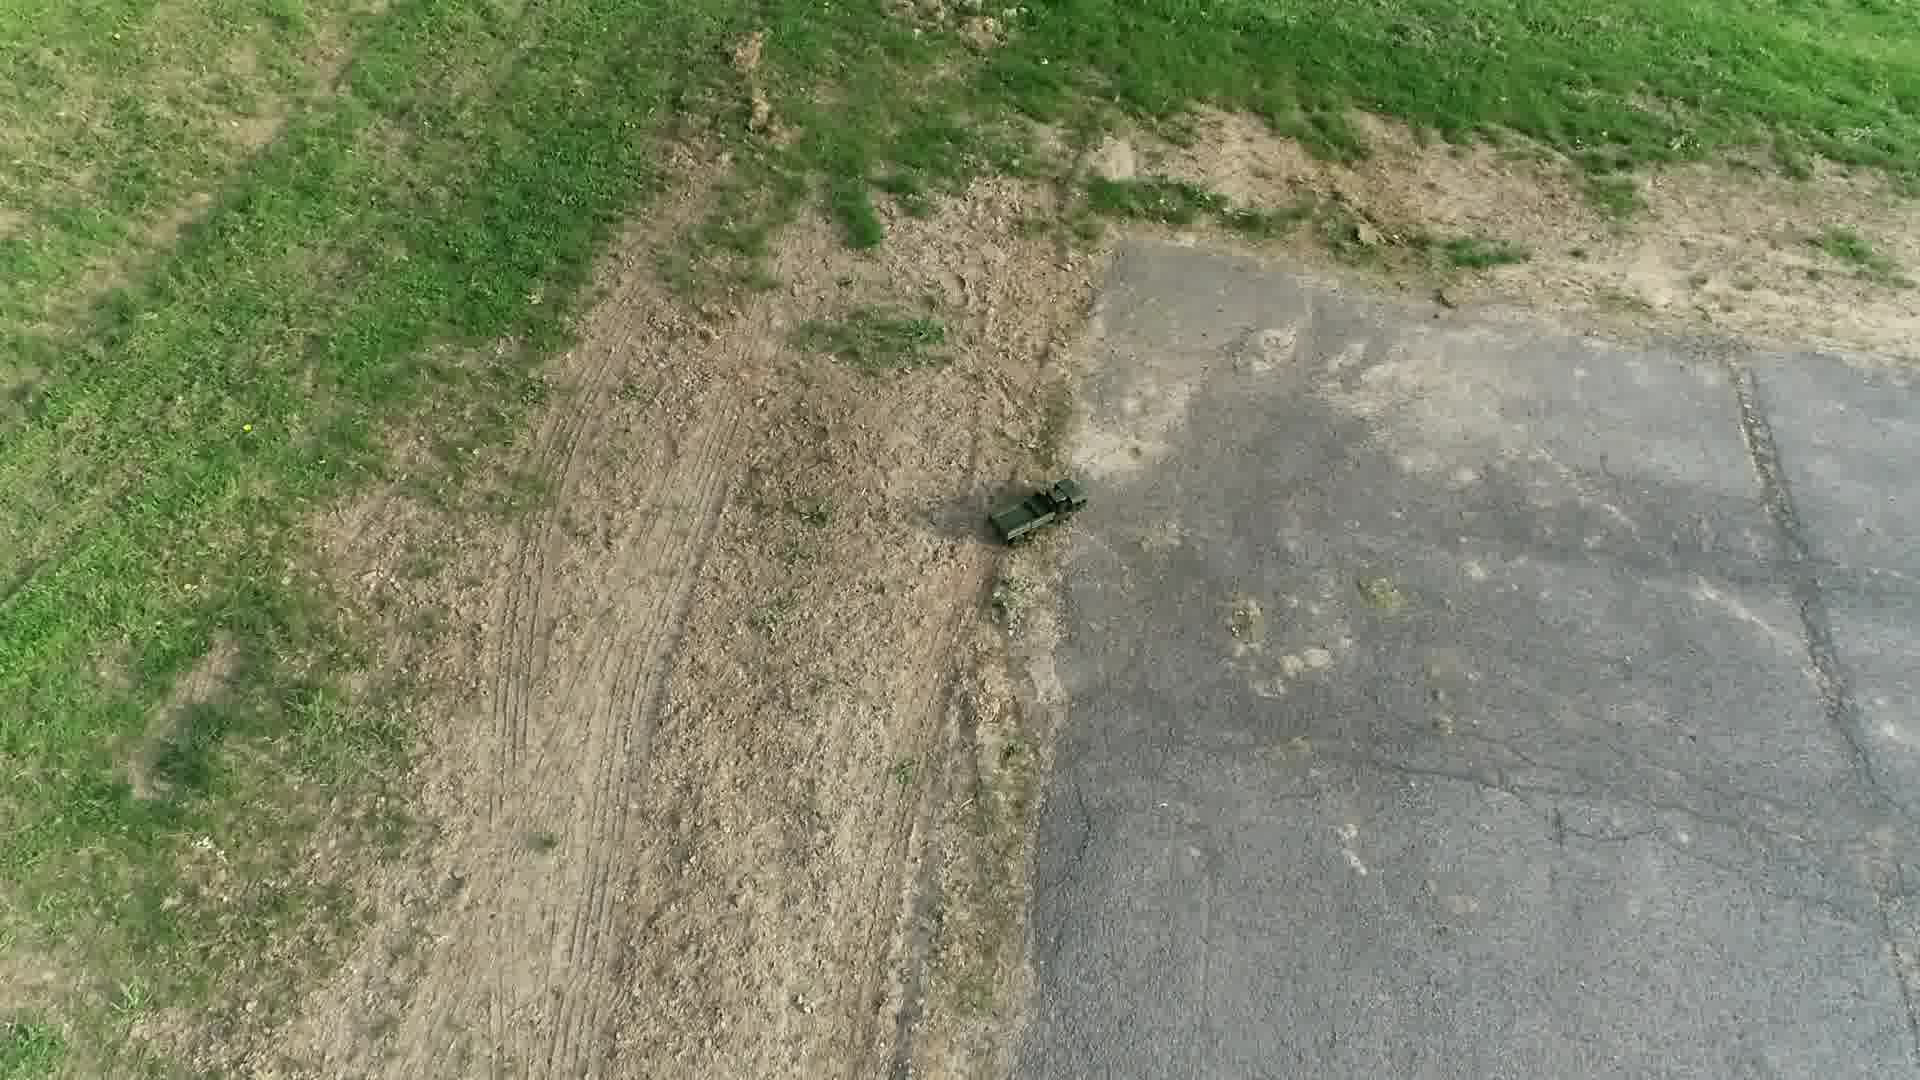transporter9: (984, 473, 1091, 549)
